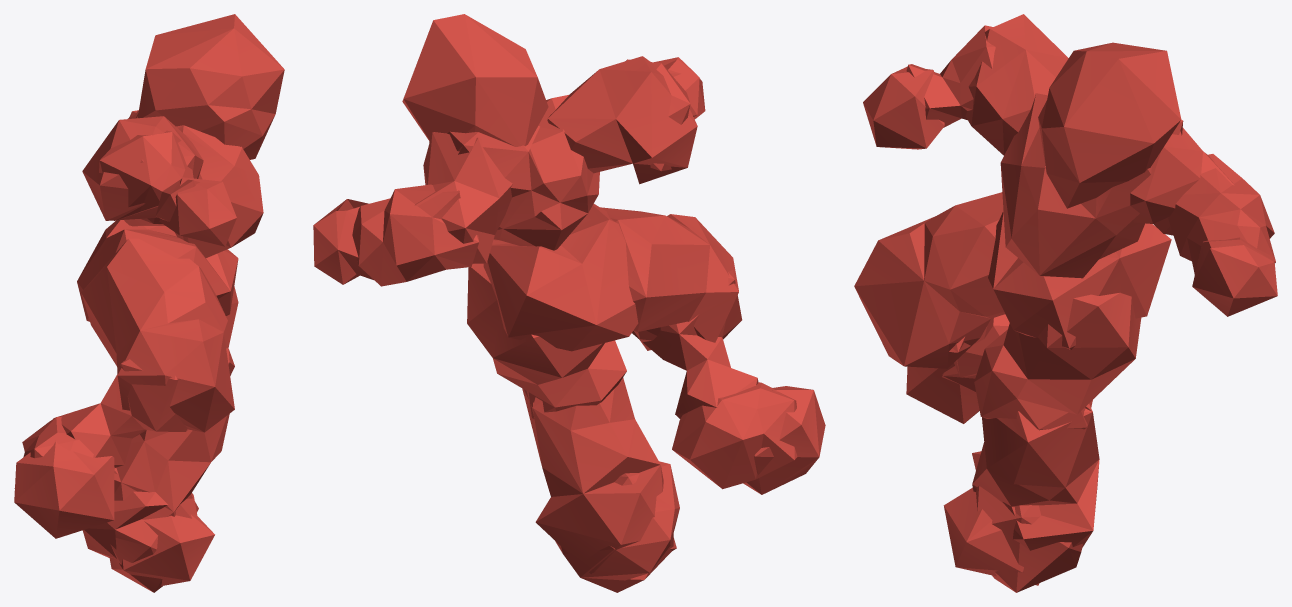
Rendered from dance_frames0339.obj.
The picture shows the model from 3 angles, left to right: view 1: azimuth 30°, elevation 25°; view 2: azimuth 150°, elevation 25°; view 3: azimuth 270°, elevation 25°; orthographic projection. The views are drawn at different scales.
Parts seen in each view (by area): view 1: Beta_Surface; view 2: Beta_Surface; view 3: Beta_Surface.
Part boxes in pixels (x1,y1,x2,y2): Beta_Surface: (14,14,284,592); Beta_Surface: (313,14,825,592); Beta_Surface: (854,14,1277,592).
Size of the model in its own units: 1.43 by 2.03 by 1.31.
